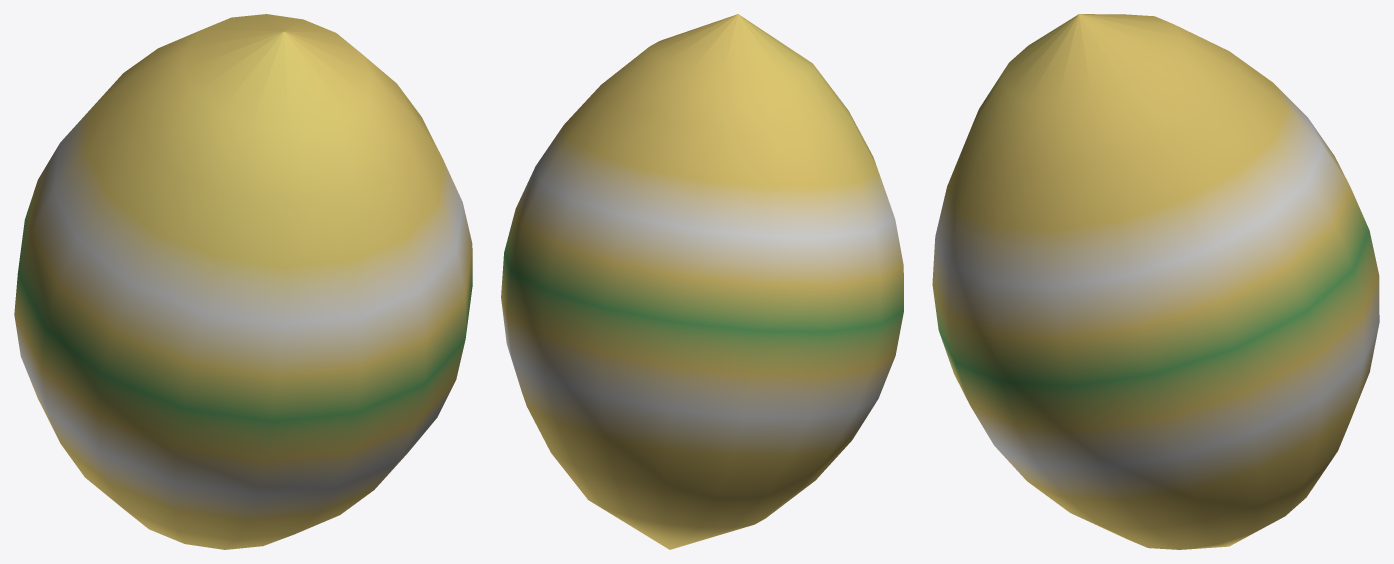
Rendered from item_ev_egg_2.glb.
3 renders of one model, left to right at view 1: azimuth 30°, elevation 25°; view 2: azimuth 150°, elevation 25°; view 3: azimuth 270°, elevation 25°, orthographic. The views are drawn at different scales.
Parts seen in each view (by area): view 1: item_ev_egg_2_gloss; view 2: item_ev_egg_2_gloss; view 3: item_ev_egg_2_gloss.
Part boxes in pixels (x1=…): item_ev_egg_2_gloss: x1=14, y1=14, x2=472, y2=549; item_ev_egg_2_gloss: x1=501, y1=14, x2=903, y2=549; item_ev_egg_2_gloss: x1=932, y1=14, x2=1379, y2=549.
Bounding box in the file's own units: 0.11 × 0.1453 × 0.1106.
